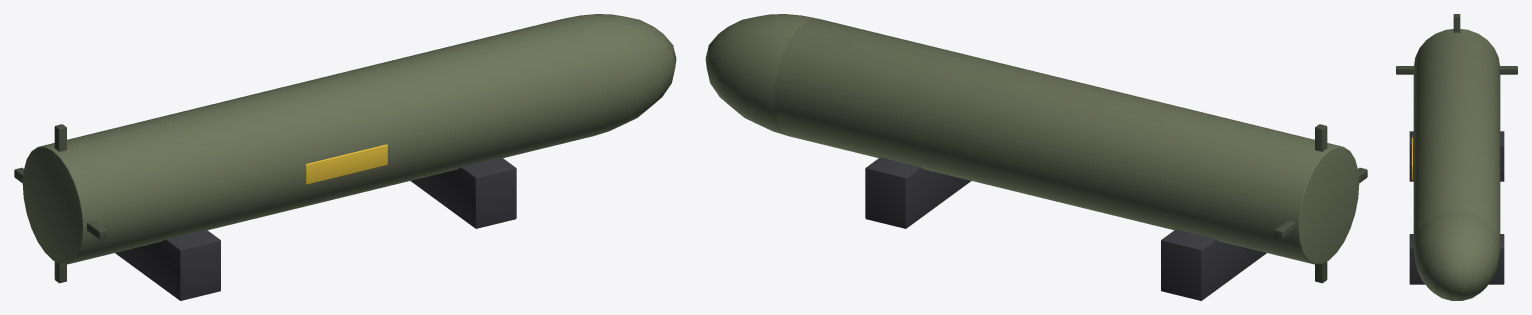
File: bunker_bomb.glb
3 views of the same model, side by side, from view 1: azimuth 30°, elevation 25°; view 2: azimuth 150°, elevation 25°; view 3: azimuth 270°, elevation 25° (orthographic). The views are drawn at different scales.
Visible parts, largest first — view 1: bunker_bomb; view 2: bunker_bomb; view 3: bunker_bomb.
Part boxes in pixels (x1,y1,x2,y2): bunker_bomb: (14,14,676,300); bunker_bomb: (705,14,1367,300); bunker_bomb: (1396,14,1517,300).
Bounding box in the file's own units: 3.77 × 1 × 0.9.
